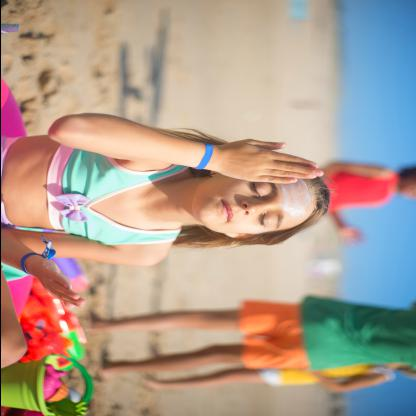Eye: (250, 182, 262, 198), (259, 213, 268, 227)
Mouth: (221, 200, 233, 221)
Nose: (240, 200, 266, 216)
